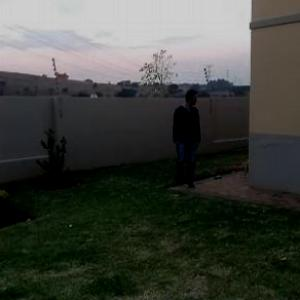follow: (168, 86, 202, 189)
